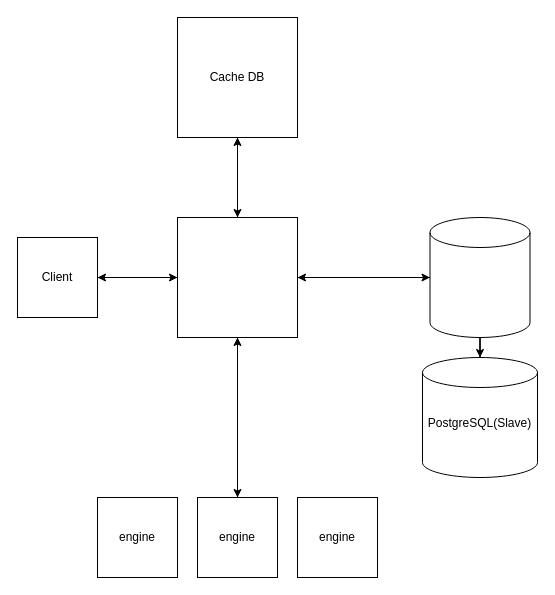
The diagram is 555 pixels wide and 595 high, and some of its shapes have lost their labels. Here are the shapes that lost their labels. From the top down, the centre of each, then its label:
At pixel 237 277: "http-server".
At pixel 479 277: "PostgreSQL(master)".
